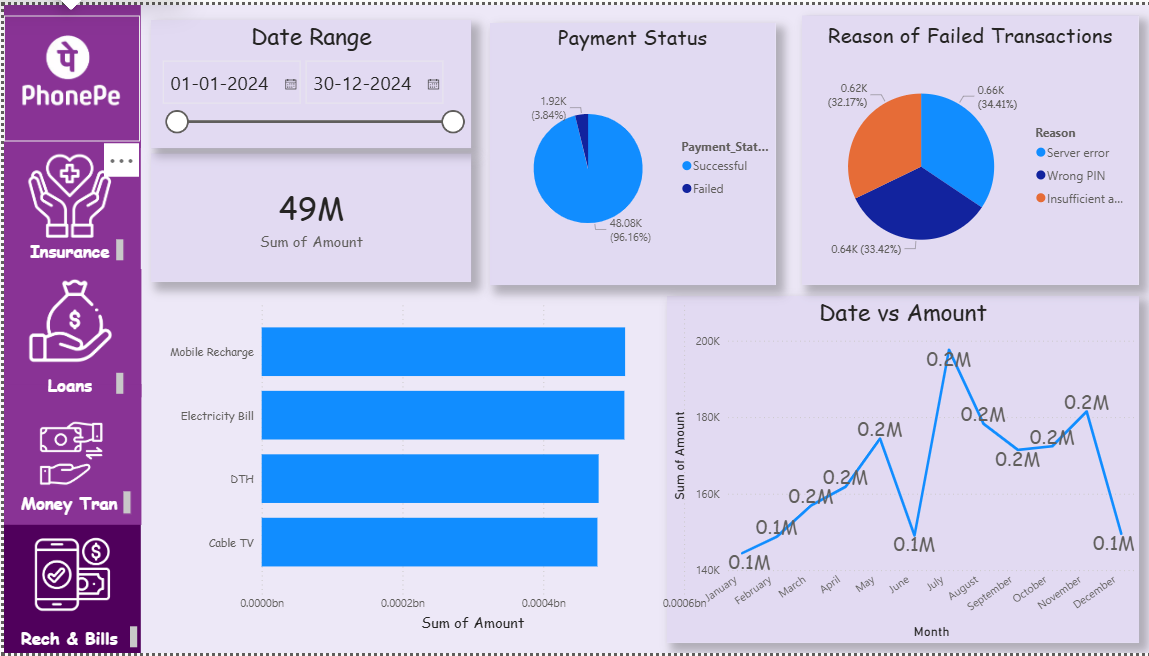

This screenshot's page, from the dashboard's own definition file:
{"tool":"powerbi","page":{"name":"Home page","canvas":[1280,720],"ordinal":0},"visuals":[{"type":"slicer","title":"Date Range","fields":{"Values":["Insurance.Date"]},"box":[174.9,11.3,356.2,150.6],"z":0},{"type":"shape","box":[0,151.1,152.7,142.4],"z":0,"group":"g2"},{"type":"shape","box":[0,0,152.7,151.1],"z":1000,"group":"g1"},{"type":"card","title":"Total Transaction Amount","fields":{"Values":["Sum(All_Transactions.Amount)"]},"box":[544.1,11.3,153.8,142.5],"z":1000},{"type":"card","title":"Total Transaction Amount","fields":{"Values":["Count(All_Transactions.Transaction_ID)"]},"box":[710.8,11.3,161.9,142.5],"z":2000},{"type":"shape","box":[0,290.7,152.2,151.2],"z":2000,"group":"g3"},{"type":"pieChart","title":"Reason of Failed Transactions","fields":{"Category":["All_Transactions.Reason"],"Y":["CountNonNull(All_Transactions.Reason)"]},"box":[887.3,11.3,374,299.6],"z":3000},{"type":"shape","box":[0,435.6,152.2,142.7],"z":3000,"group":"g4"},{"type":"lineChart","title":"Date vs Amount","fields":{"Category":["All_Transactions.Date.Variation.Date Hierarchy.Month"],"Y":["Sum(All_Transactions.Amount)"]},"box":[544.1,323.8,717.3,385.4],"z":4000},{"type":"shape","box":[0,576.4,152.2,144.1],"z":4000,"group":"g5"},{"type":"image","box":[11.1,11.1,128.8,128.8],"z":5000,"group":"g1"},{"type":"columnChart","title":"Service vs Amount","fields":{"Y":["Sum(All_Transactions.Amount)"],"Category":["All_Transactions.Service"]},"box":[174.9,178.1,356.2,527.9],"z":5000},{"type":"image","box":[11.1,151.1,122.5,120.9],"z":6000,"group":"g2"},{"type":"card","title":"Total Transaction Amount","fields":{"Values":["Count(All_Transactions.Transaction_ID)"]},"box":[697.9,170,174.9,140.9],"z":6000},{"type":"card","title":"Total Transaction Amount","fields":{"Values":["Count(All_Transactions.Transaction_ID)"]},"box":[544.1,166.8,142.5,144.1],"z":7000},{"type":"group","id":"g1","title":"Group 1","box":[0,0,152.7,151.1],"z":8000},{"type":"image","box":[19.4,296.3,113.3,118.2],"z":8000,"group":"g3"},{"type":"image","box":[19,590.8,107.8,96.6],"z":8000,"group":"g5"},{"type":"group","id":"g2","title":"Group 2","box":[0,151.1,152.7,142.4],"z":9000},{"type":"image","box":[29.1,451.8,87.4,81],"z":9000,"group":"g4"},{"type":"actionButton","box":[0,150.6,152.2,140.9],"z":10000},{"type":"textbox","box":[0,676.8,152.2,32.4],"z":10000,"group":"g5"},{"type":"group","id":"g3","title":"Group 3","box":[0,290.7,152.2,151.2],"z":11000},{"type":"textbox","box":[3.2,521.4,139.3,32.4],"z":11000,"group":"g4"},{"type":"group","id":"g4","title":"Group 4","box":[0,435.6,152.2,142.7],"z":12000},{"type":"textbox","box":[15.9,254.5,120.9,35],"z":13000,"group":"g2"},{"type":"textbox","box":[14.6,398.3,119.8,37.2],"z":13000,"group":"g3"},{"type":"group","id":"g5","title":"Group 5","box":[0,576.4,152.2,144.1],"z":13000},{"type":"actionButton","box":[0,291.5,152.2,140.9],"z":14000},{"type":"actionButton","box":[0,432.3,152.2,144.1],"z":15000},{"type":"actionButton","box":[0,576.4,152.2,144.1],"z":16000}]}

Visuals, with their boxes on the page's 1280x720 design canvas (x1, y1, x2, y2). These are canvas units, not pixel positions in the 1149x656 screenshot, which may show the page scaled, cropped or inside an application window:
"Date Range" slicer: detection(175, 11, 531, 162)
shape: detection(0, 151, 153, 294)
shape: detection(0, 0, 153, 151)
"Total Transaction Amount" card: detection(544, 11, 698, 154)
"Total Transaction Amount" card: detection(711, 11, 873, 154)
shape: detection(0, 291, 152, 442)
"Reason of Failed Transactions" pieChart: detection(887, 11, 1261, 311)
shape: detection(0, 436, 152, 578)
"Date vs Amount" lineChart: detection(544, 324, 1261, 709)
shape: detection(0, 576, 152, 720)
image: detection(11, 11, 140, 140)
"Service vs Amount" columnChart: detection(175, 178, 531, 706)
image: detection(11, 151, 134, 272)
"Total Transaction Amount" card: detection(698, 170, 873, 311)
"Total Transaction Amount" card: detection(544, 167, 687, 311)
"Group 1" group: detection(0, 0, 153, 151)
image: detection(19, 296, 133, 414)
image: detection(19, 591, 127, 687)
"Group 2" group: detection(0, 151, 153, 294)
image: detection(29, 452, 116, 533)
actionButton: detection(0, 151, 152, 292)
textbox: detection(0, 677, 152, 709)
"Group 3" group: detection(0, 291, 152, 442)
textbox: detection(3, 521, 142, 554)
"Group 4" group: detection(0, 436, 152, 578)
textbox: detection(16, 254, 137, 290)
textbox: detection(15, 398, 134, 436)
"Group 5" group: detection(0, 576, 152, 720)
actionButton: detection(0, 292, 152, 432)
actionButton: detection(0, 432, 152, 576)
actionButton: detection(0, 576, 152, 720)
